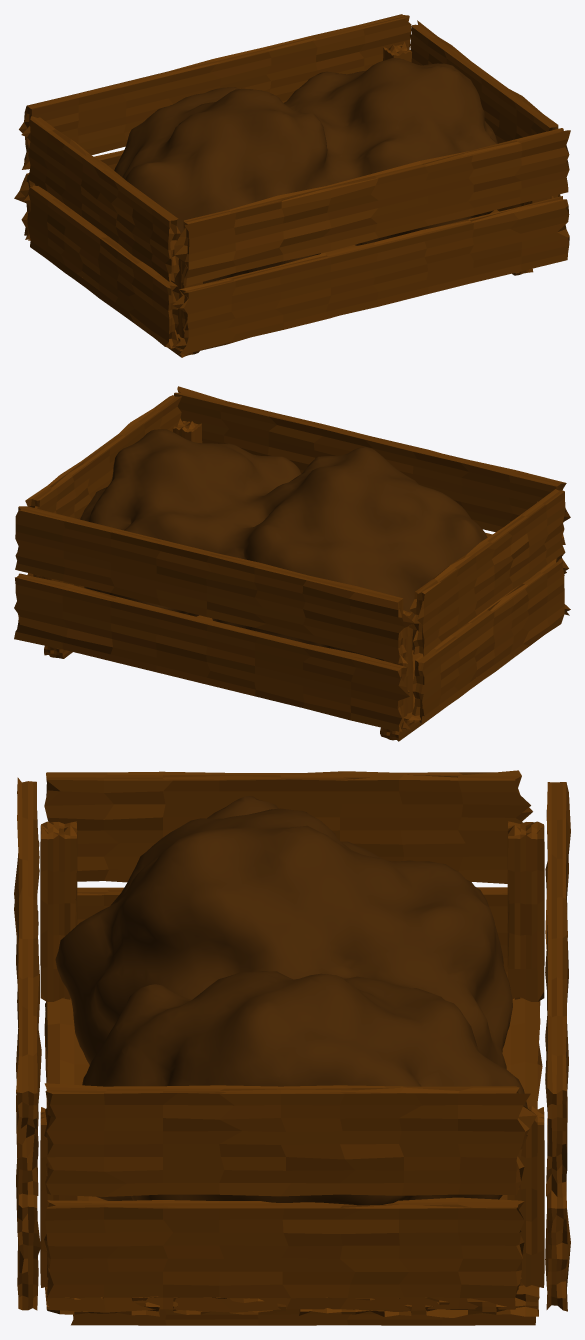
The model's file is квауві.fbx.
The picture shows the model from 3 angles, top to bottom: view 1: azimuth 30°, elevation 25°; view 2: azimuth 150°, elevation 25°; view 3: azimuth 270°, elevation 25°; orthographic projection. The views are drawn at different scales.
Visible parts, largest first — view 1: Куб.017, rock.002; view 2: Куб.017, rock.002; view 3: Куб.017, rock.002.
Boxes of the visible parts, left/top/right/bottom form: Куб.017: left=14, top=14, right=570, bottom=357; rock.002: left=114, top=58, right=497, bottom=283; Куб.017: left=14, top=386, right=570, bottom=741; rock.002: left=80, top=429, right=487, bottom=660; Куб.017: left=14, top=770, right=570, bottom=1325; rock.002: left=55, top=796, right=527, bottom=1205.
Bounding box in the file's own units: 522 × 235 × 378.
